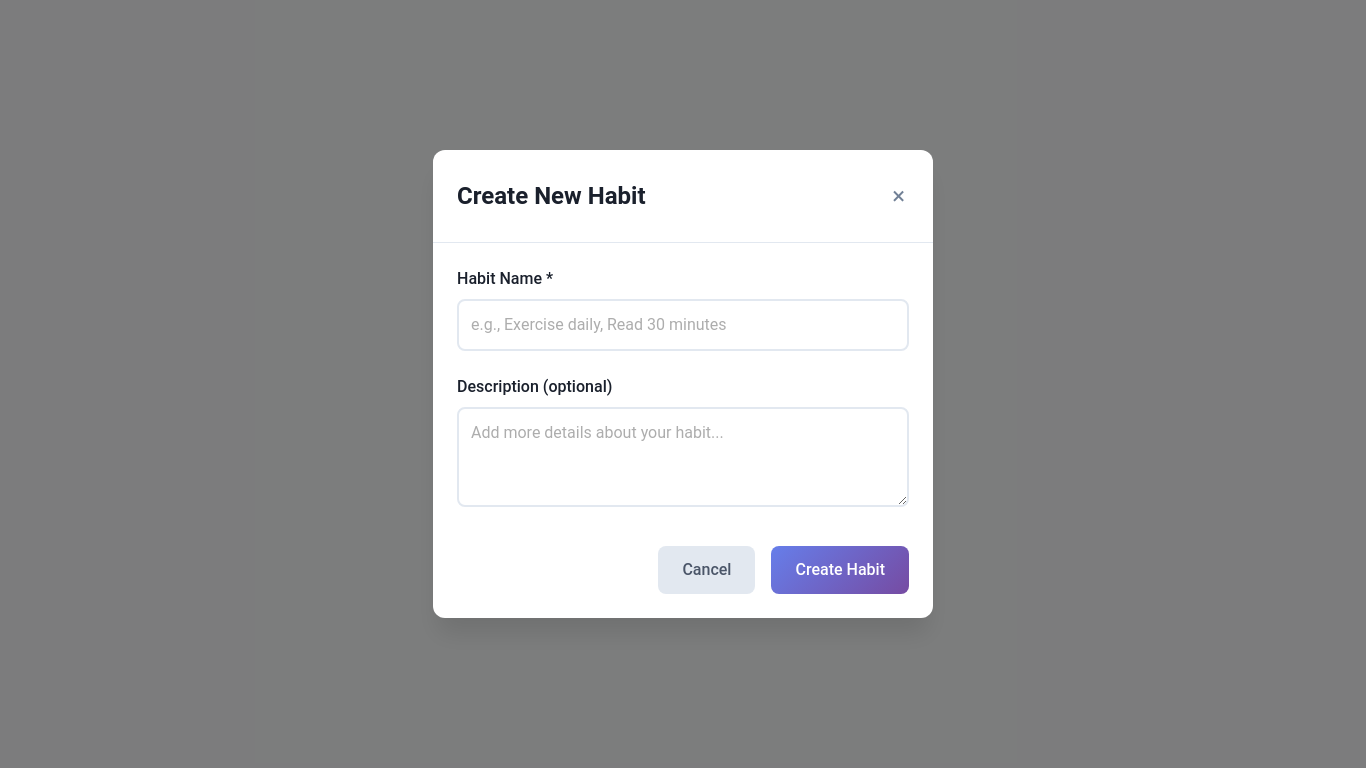
it: CreateHabitForm › Form validation › shows error when name is too short
Type "ab" into the field labelled "Habit Name *".
click(683, 325); type("ab")  # box [457,299,909,351]
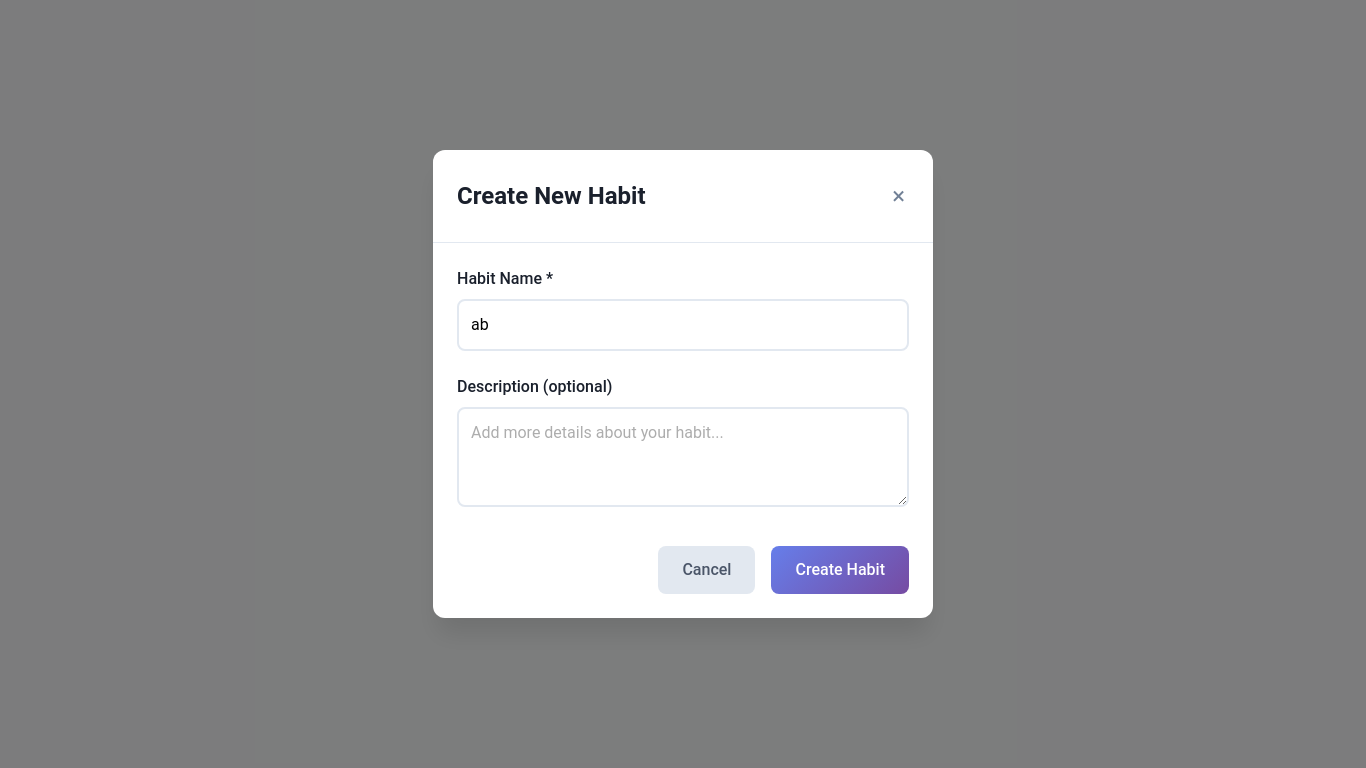
Click the button "Create Habit".
click(840, 570)  # box [772,546,909,594]
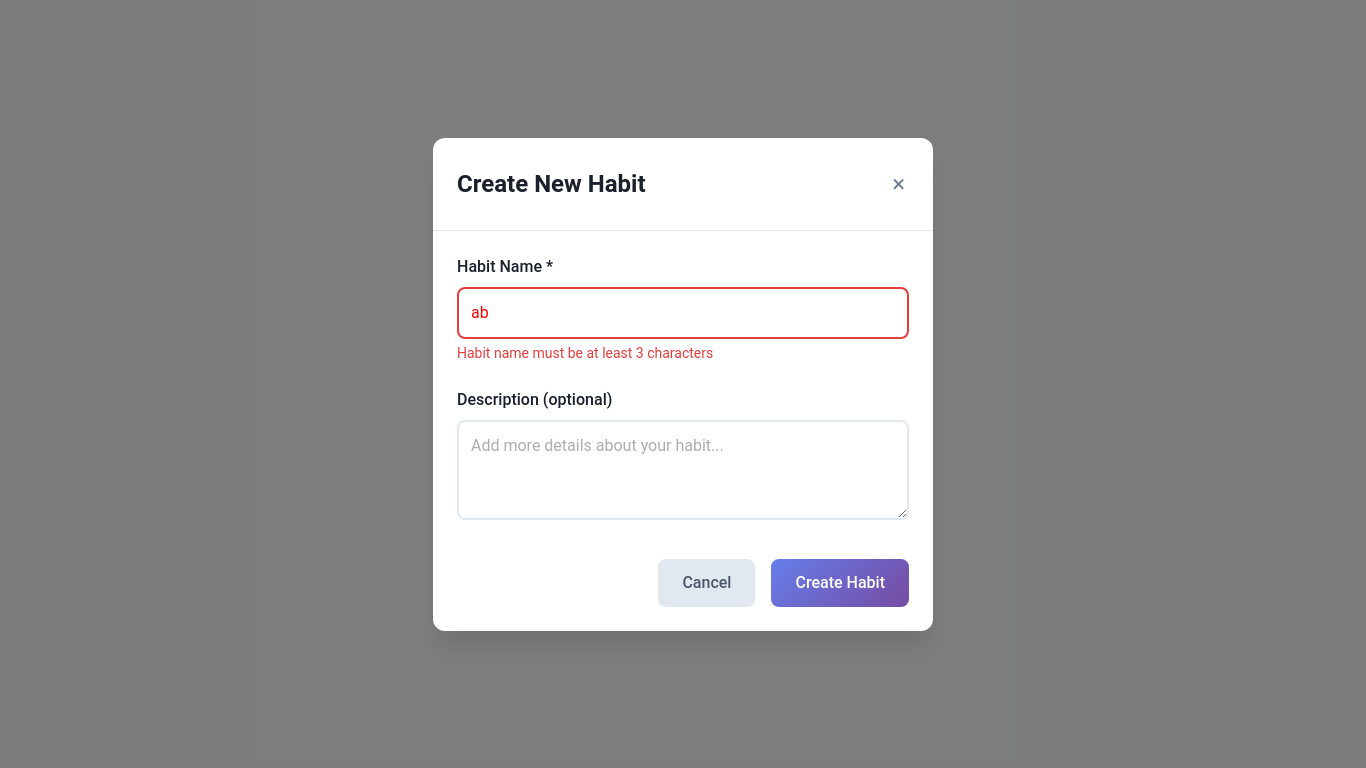
Result: the text "Habit name must be at least 3 characters" is shown at [457,344,713,360]
